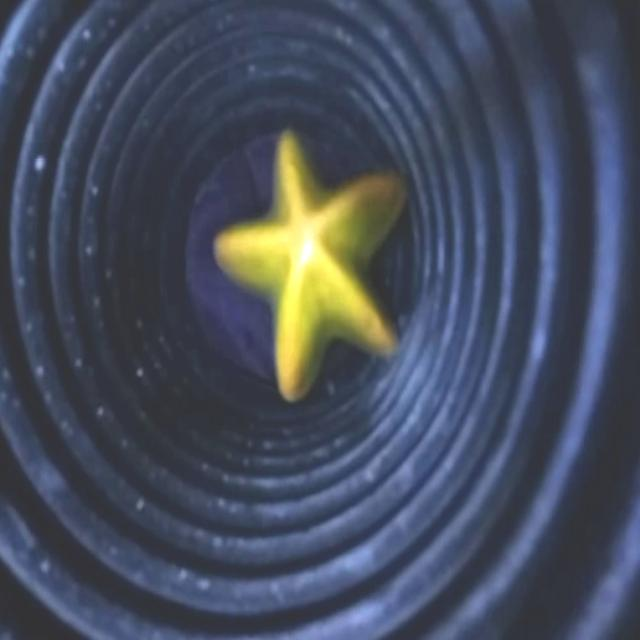obstacles: (217, 135, 405, 399)
